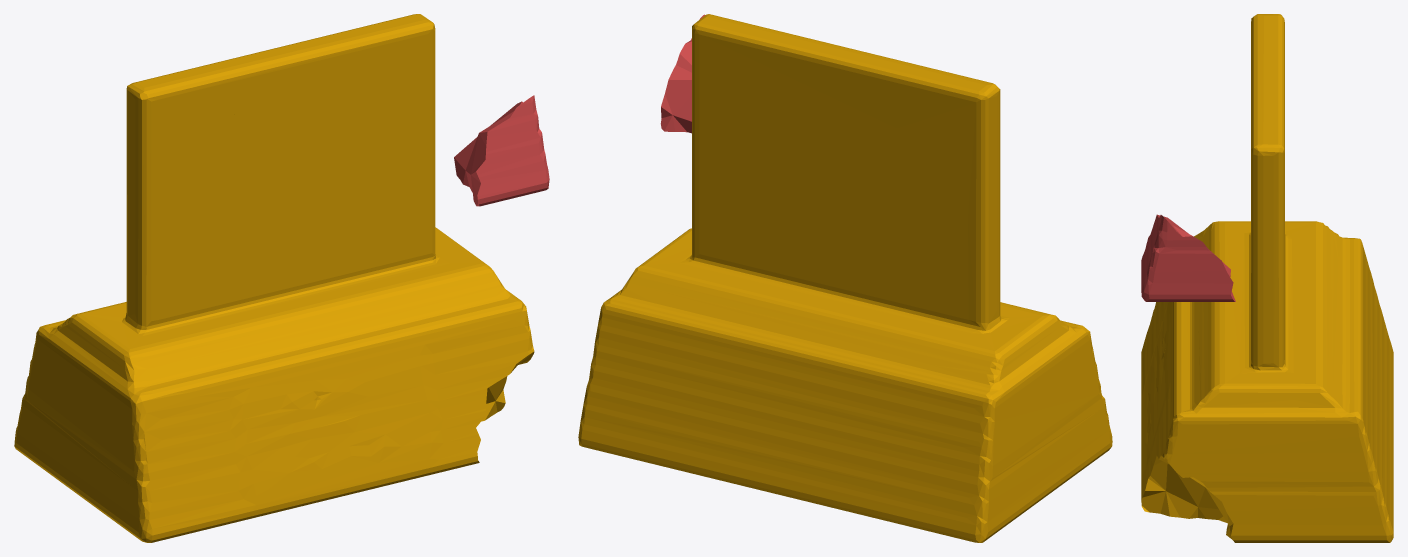
File: fractured_50_2pcs_transformed.glb
3 renders of one model, left to right at view 1: azimuth 30°, elevation 25°; view 2: azimuth 150°, elevation 25°; view 3: azimuth 270°, elevation 25°, orthographic. The views are drawn at different scales.
Visible parts, largest first — view 1: piece_0.obj, piece_1.obj; view 2: piece_0.obj, piece_1.obj; view 3: piece_0.obj, piece_1.obj.
Boxes of the visible parts, bbox=[...] form: piece_0.obj: bbox=[14, 14, 534, 542]; piece_1.obj: bbox=[454, 95, 549, 206]; piece_0.obj: bbox=[578, 14, 1112, 542]; piece_1.obj: bbox=[660, 14, 704, 133]; piece_0.obj: bbox=[1141, 14, 1393, 542]; piece_1.obj: bbox=[1141, 214, 1235, 301].
Bounding box in the file's own units: 1 × 0.9277 × 0.5692.
